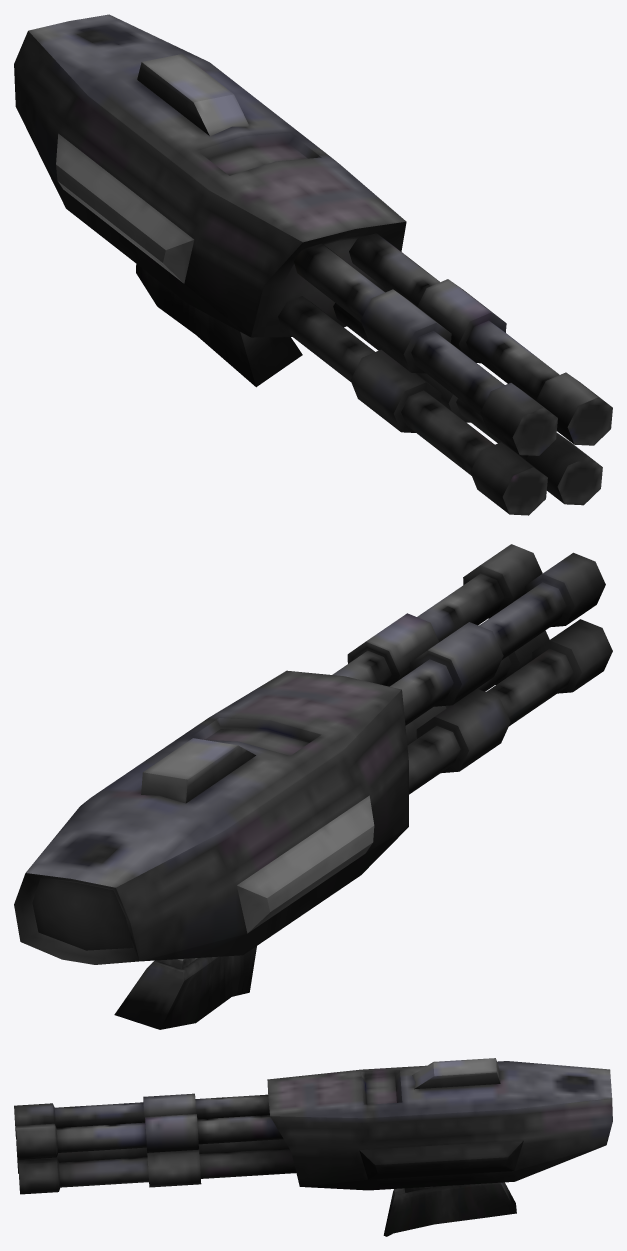
The model's file is Guns.FBX.
3 views of the same model, one above another, from view 1: azimuth 30°, elevation 25°; view 2: azimuth 150°, elevation 25°; view 3: azimuth 270°, elevation 25° (orthographic). The views are drawn at different scales.
Visible parts, largest first — view 1: Machine Gun; view 2: Machine Gun; view 3: Machine Gun.
Boxes of the visible parts, bbox=[...] form: Machine Gun: bbox=[14, 14, 612, 515]; Machine Gun: bbox=[14, 544, 612, 1029]; Machine Gun: bbox=[14, 1058, 612, 1236].
Size of the model in its own units: 4.38 by 5.56 by 17.73.
Materials: 1 (1 with a texture image).
